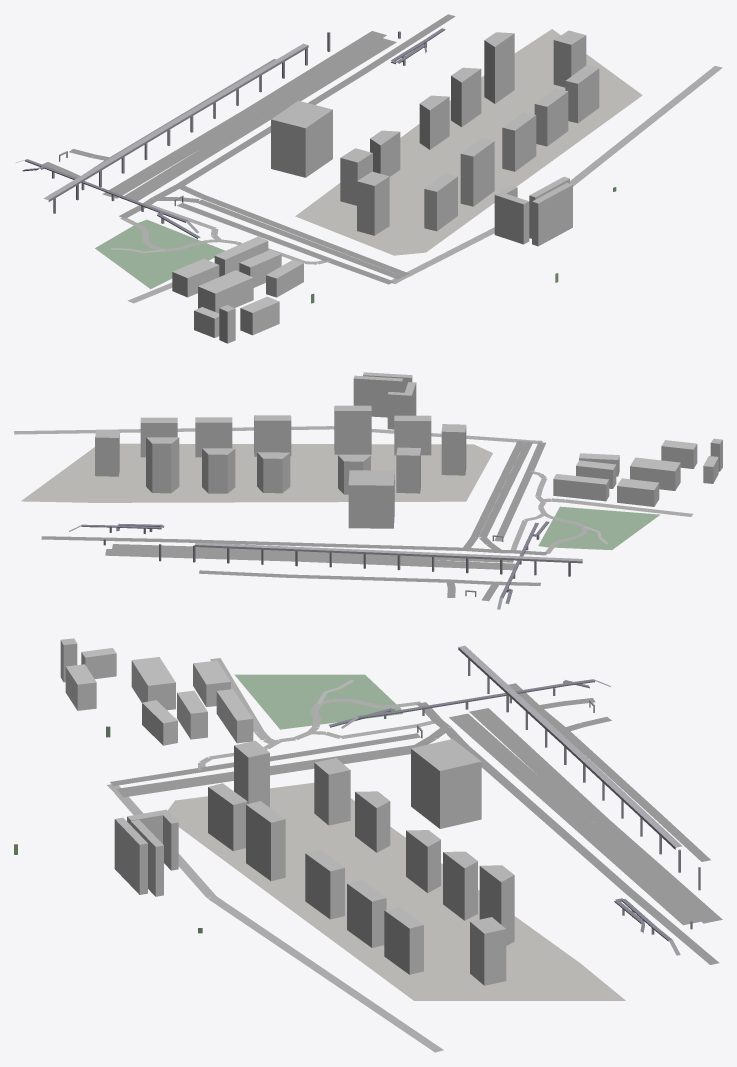
3 views of the same model, one above another, from view 1: azimuth 30°, elevation 25°; view 2: azimuth 150°, elevation 25°; view 3: azimuth 270°, elevation 25° (orthographic). The views are drawn at different scales.
Size of the model in its own units: 604 by 48.55 by 461.
